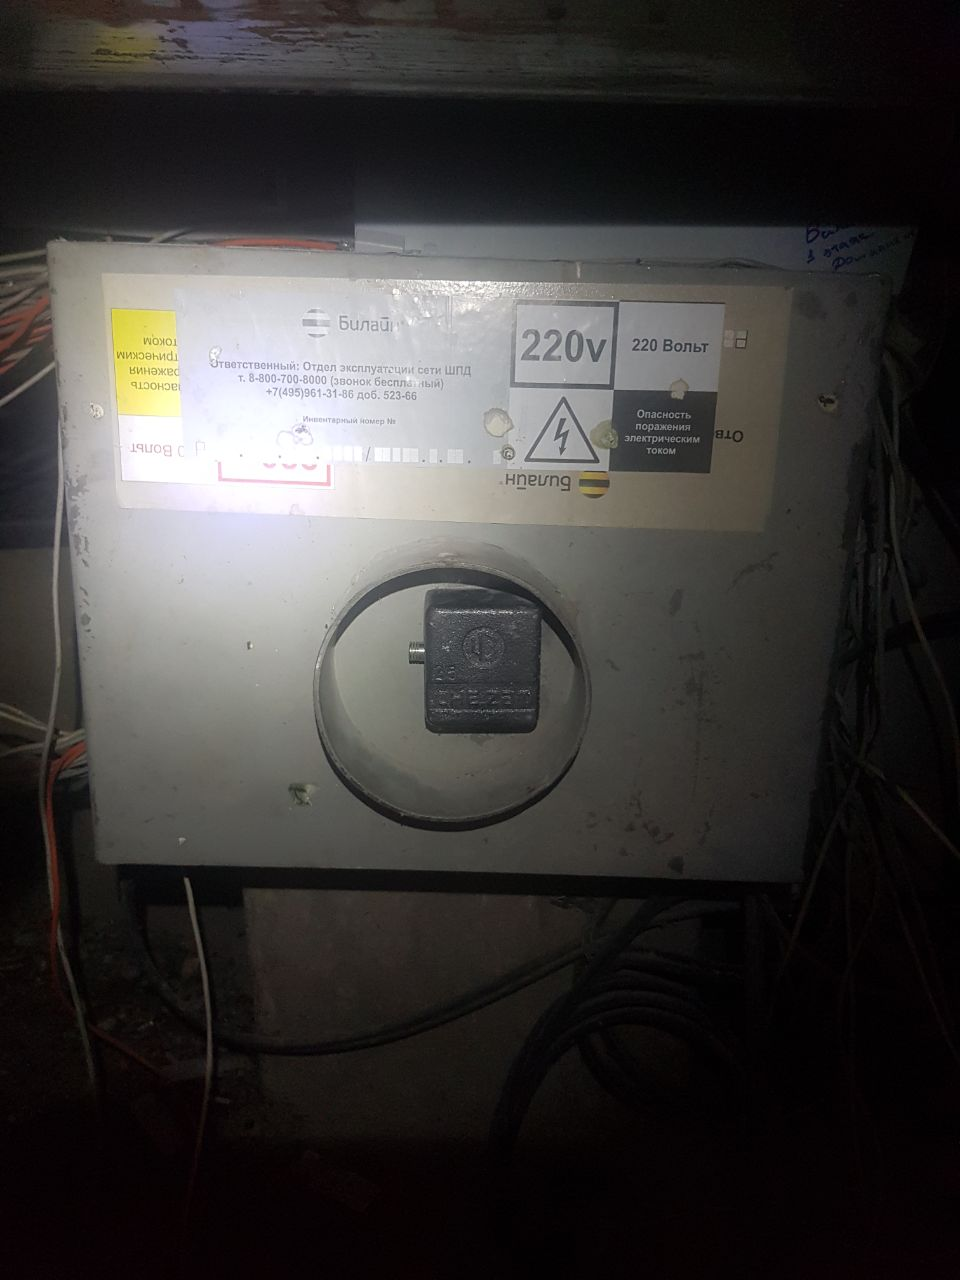shta-3: (35, 235, 895, 889)
